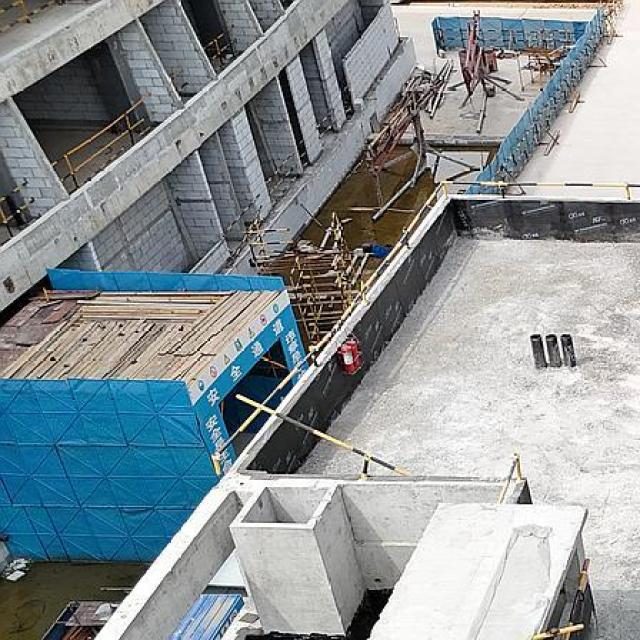Guardrail: (208, 176, 640, 476), (50, 96, 151, 196), (224, 193, 264, 248), (0, 181, 36, 239), (0, 0, 60, 34), (265, 150, 299, 209), (204, 24, 239, 67), (497, 452, 522, 505), (168, 65, 192, 94), (316, 109, 334, 141), (340, 84, 353, 116), (296, 139, 310, 168)
